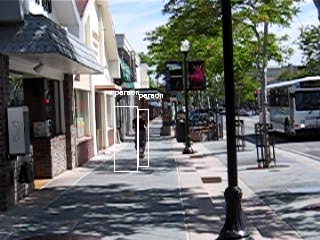person: (133, 109, 150, 160), (132, 109, 149, 160), (134, 109, 151, 160), (133, 108, 150, 159), (133, 110, 150, 161)
target_negative: (64, 106, 258, 201), (160, 217, 258, 225), (88, 205, 121, 228), (290, 172, 297, 222), (281, 92, 303, 106), (263, 133, 268, 170)
